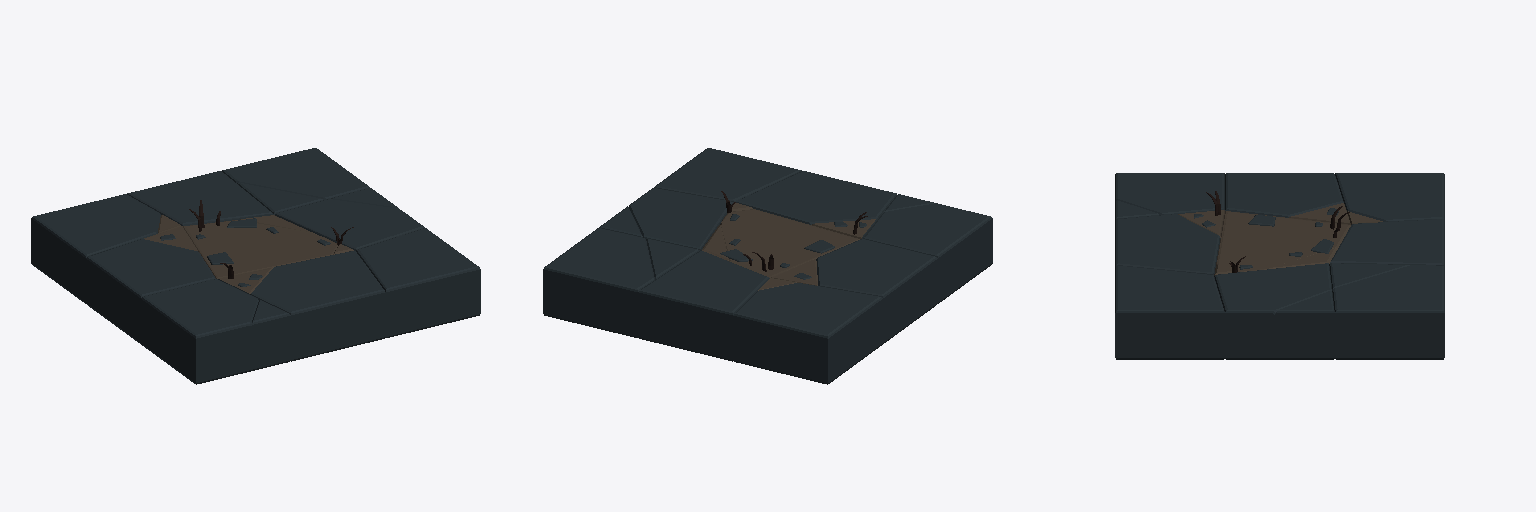
File: tileBrickB_largeCrackedB.obj
3 views of the same model, side by side, from view 1: azimuth 30°, elevation 25°; view 2: azimuth 150°, elevation 25°; view 3: azimuth 270°, elevation 25° (orthographic).
Visible parts, largest first — view 1: tileBrickB_largeCrackedB_Cube.3229; view 2: tileBrickB_largeCrackedB_Cube.3229; view 3: tileBrickB_largeCrackedB_Cube.3229.
Boxes of the visible parts, x1,y1,x2,y2 form: tileBrickB_largeCrackedB_Cube.3229: [31, 148, 480, 384]; tileBrickB_largeCrackedB_Cube.3229: [543, 148, 992, 384]; tileBrickB_largeCrackedB_Cube.3229: [1115, 173, 1444, 359].
Bounding box in the file's own units: 6 × 1.41 × 6.